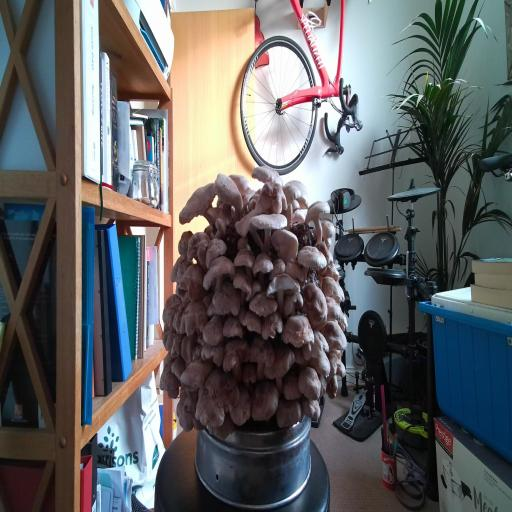Shiitake Mushroom: (175, 355, 257, 444), (237, 187, 300, 258), (255, 258, 311, 320), (288, 273, 341, 338), (204, 162, 251, 227), (190, 247, 247, 300), (168, 254, 221, 310), (212, 324, 259, 387), (237, 325, 285, 384), (259, 218, 311, 270), (258, 334, 302, 395), (286, 235, 337, 282), (220, 382, 264, 435), (232, 207, 268, 265), (315, 312, 355, 363), (314, 292, 358, 338), (299, 189, 335, 245), (292, 324, 338, 365), (272, 177, 304, 231), (194, 229, 235, 270), (199, 410, 243, 448), (179, 183, 217, 227), (282, 168, 317, 214), (244, 245, 280, 289), (251, 307, 292, 345), (227, 264, 259, 308), (223, 164, 257, 203), (315, 273, 353, 307), (198, 311, 228, 352), (280, 314, 316, 348), (178, 358, 215, 391), (185, 226, 211, 272), (254, 181, 289, 214), (178, 299, 208, 337), (248, 160, 288, 188), (245, 289, 282, 319), (252, 380, 279, 421), (279, 255, 314, 286), (158, 289, 184, 330), (231, 242, 257, 282), (212, 281, 241, 316), (176, 325, 200, 367), (186, 392, 208, 436), (236, 307, 269, 336), (169, 252, 196, 286), (307, 345, 334, 379), (276, 397, 304, 429), (295, 395, 327, 423), (200, 335, 226, 368), (298, 365, 322, 400), (165, 351, 192, 382), (319, 374, 347, 403), (160, 326, 184, 359), (159, 355, 180, 391), (313, 235, 336, 267), (263, 255, 291, 280), (175, 224, 194, 260), (282, 370, 302, 403), (203, 205, 233, 227), (282, 290, 305, 318), (170, 298, 187, 335), (177, 396, 194, 432), (201, 300, 224, 326), (328, 349, 347, 378), (170, 283, 194, 305), (168, 252, 184, 284), (240, 361, 258, 387), (223, 315, 243, 338), (199, 287, 218, 310), (291, 344, 309, 367), (170, 331, 184, 360), (321, 260, 340, 281), (213, 215, 227, 239), (321, 218, 336, 240), (175, 386, 191, 405), (240, 193, 250, 216), (319, 373, 328, 397), (166, 387, 181, 401), (237, 235, 250, 250), (291, 210, 306, 223), (174, 400, 185, 417), (290, 196, 301, 212), (205, 224, 215, 240)
